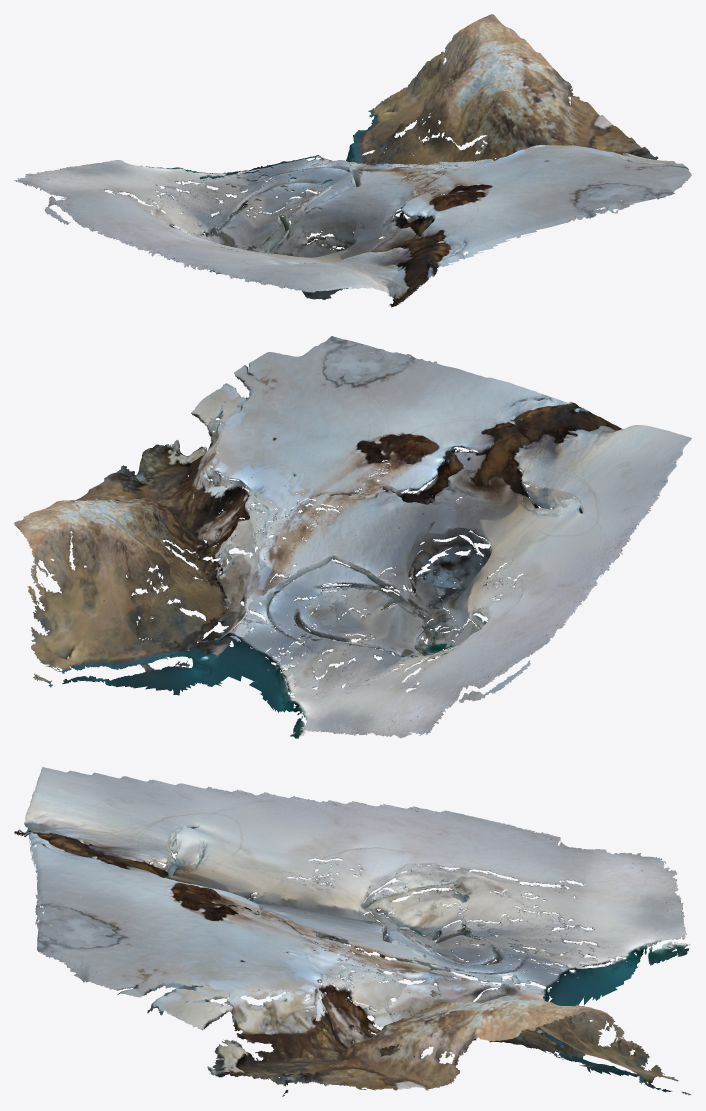
Rendered from hveradalur-2026.glb.
3 renders of one model, top to bottom at view 1: azimuth 30°, elevation 25°; view 2: azimuth 150°, elevation 25°; view 3: azimuth 270°, elevation 25°, orthographic. The views are drawn at different scales.
Visible parts, largest first — view 1: Efri Hveradalur 2026; view 2: Efri Hveradalur 2026; view 3: Efri Hveradalur 2026.
Boxes of the visible parts, left/top/right/bottom form: Efri Hveradalur 2026: left=14, top=14, right=691, bottom=307; Efri Hveradalur 2026: left=14, top=336, right=691, bottom=738; Efri Hveradalur 2026: left=14, top=767, right=690, bottom=1096.
Bounding box in the file's own units: 396 × 117 × 414.
Materials: 1 (1 with a texture image).
